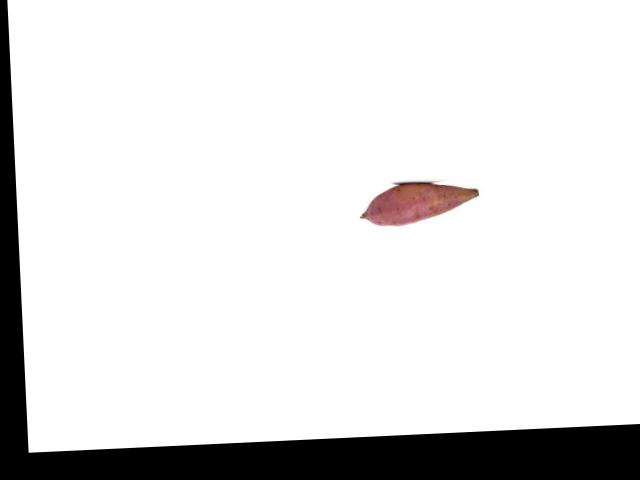sweet_potato: (358, 182, 480, 227)
